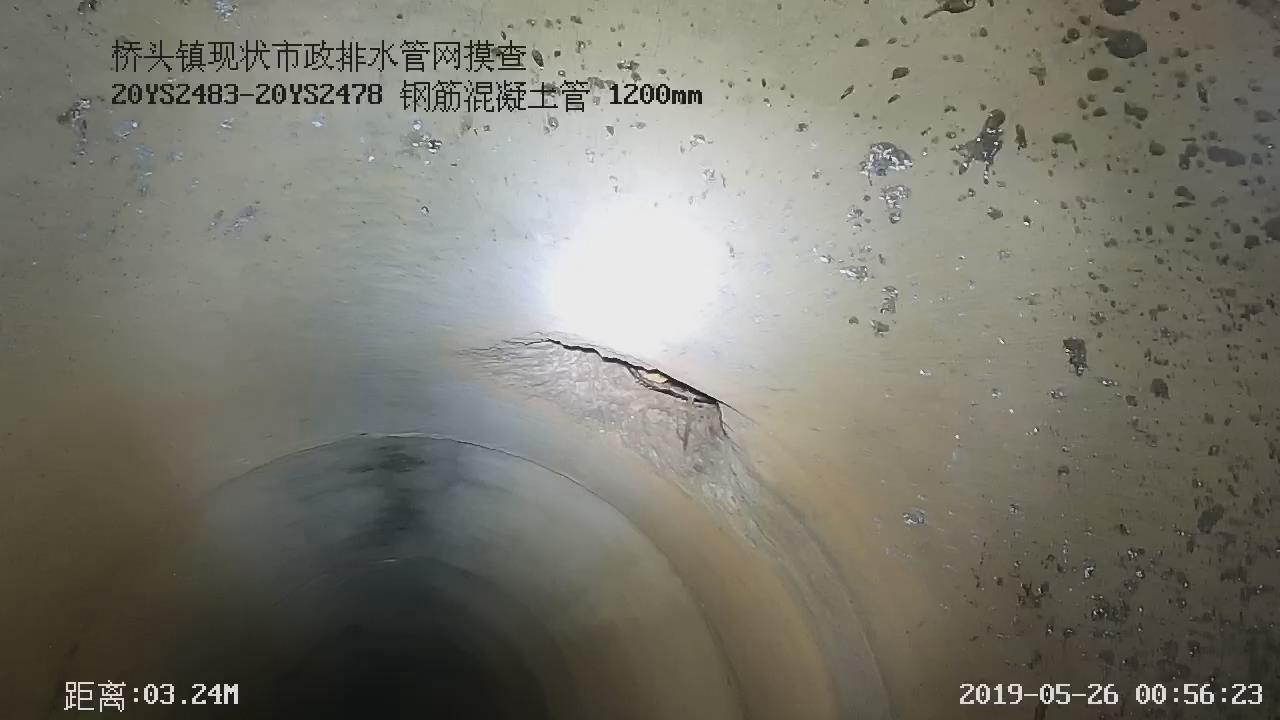PL: (478, 315, 768, 492)
